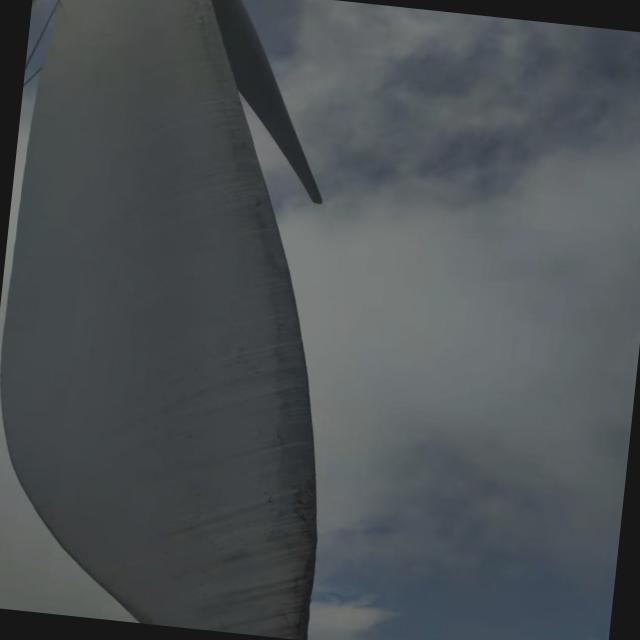corrosion: (275, 480, 334, 640)
